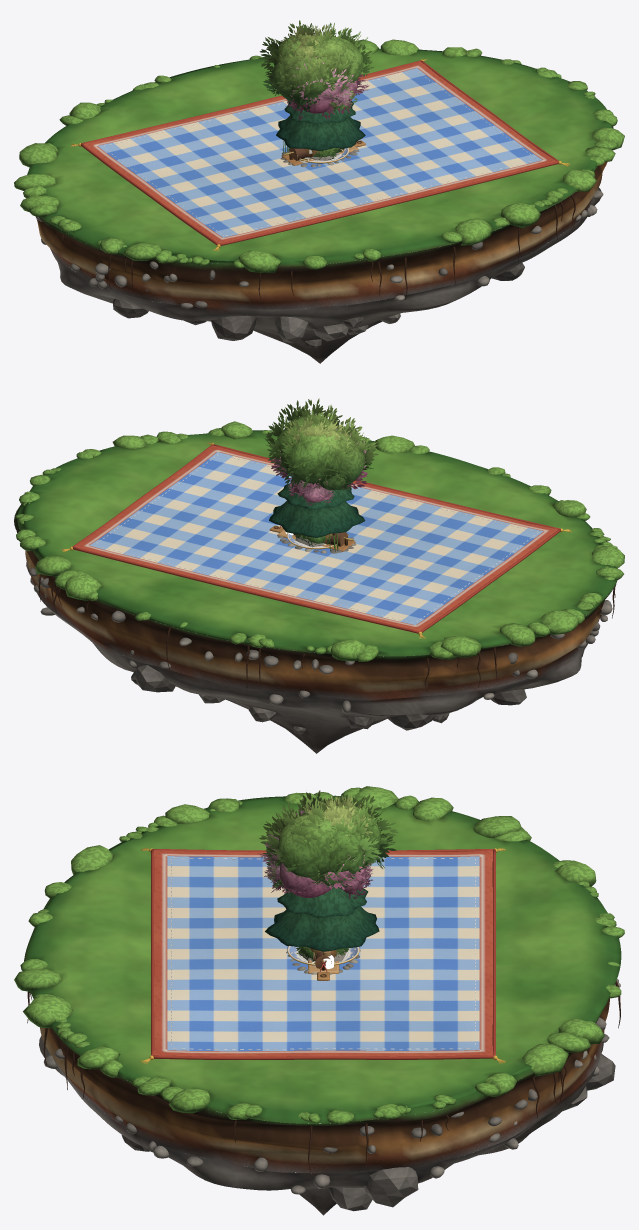
Rendered from world.glb.
3 views of the same model, one above another, from view 1: azimuth 30°, elevation 25°; view 2: azimuth 150°, elevation 25°; view 3: azimuth 270°, elevation 25° (orthographic). The views are drawn at different scales.
Visible parts, largest first — view 1: island, cloth, tree_oak, tree_pine, tree_blossom, tree_birch; view 2: island, cloth, tree_oak, tree_pine, tree_blossom, tree_birch; view 3: island, cloth, tree_oak, tree_pine, tree_blossom, tree_birch.
Part boxes in pixels (x1,y1,x2,y2): island: (14, 39, 624, 363); cloth: (70, 59, 569, 251); tree_oak: (257, 20, 373, 114); tree_pine: (276, 100, 365, 151); tree_blossom: (276, 56, 369, 120); tree_birch: (278, 24, 357, 91); island: (14, 421, 624, 753); cloth: (62, 442, 571, 638); tree_oak: (264, 398, 378, 493); tree_pine: (269, 474, 365, 537); tree_blossom: (269, 427, 368, 505); tree_birch: (281, 417, 350, 461); island: (14, 786, 624, 1215); cloth: (140, 847, 506, 1063); tree_oak: (259, 790, 398, 896); tree_pine: (265, 875, 379, 951); tree_blossom: (258, 808, 373, 899); tree_birch: (271, 794, 373, 863).
Bounding box in the file's own units: 22.57 × 13.4 × 17.52.
24 materials, 15 textured.
